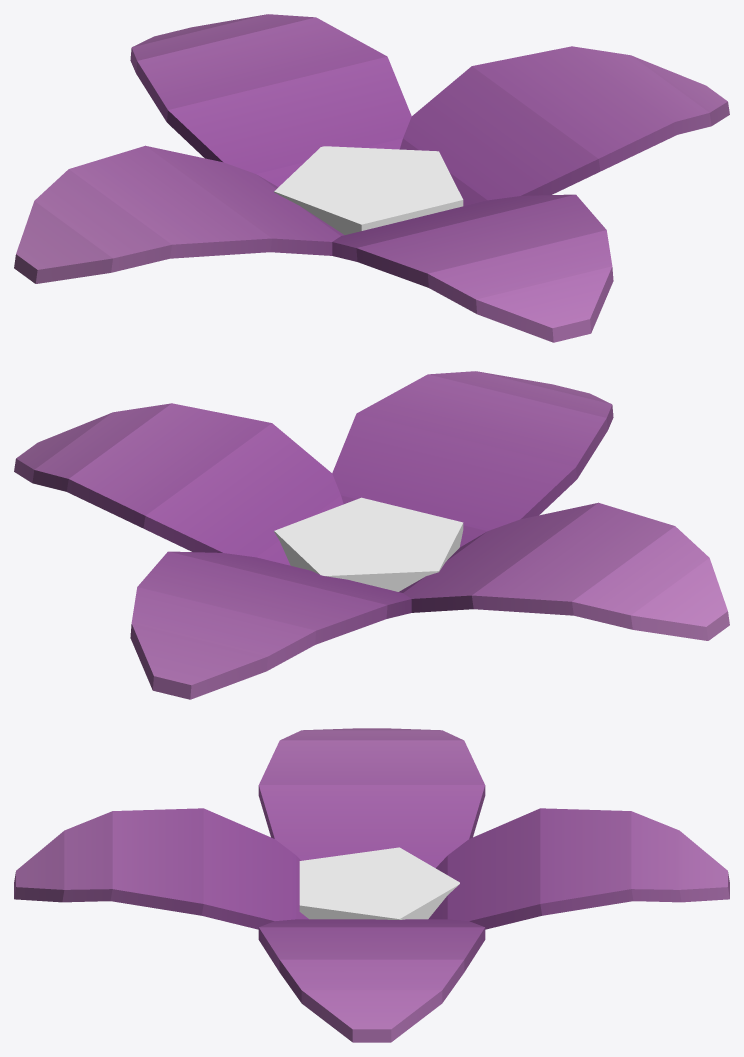
Rendered from Flower_08.fbx.
3 renders of one model, top to bottom at view 1: azimuth 30°, elevation 25°; view 2: azimuth 150°, elevation 25°; view 3: azimuth 270°, elevation 25°, orthographic. The views are drawn at different scales.
Visible parts, largest first — view 1: Flower_08; view 2: Flower_08; view 3: Flower_08.
Boxes of the visible parts, bbox=[...] form: Flower_08: bbox=[14, 14, 729, 342]; Flower_08: bbox=[14, 371, 729, 699]; Flower_08: bbox=[14, 728, 729, 1042].
Size of the model in its own units: 0.2997 by 0.0355 by 0.2997.
